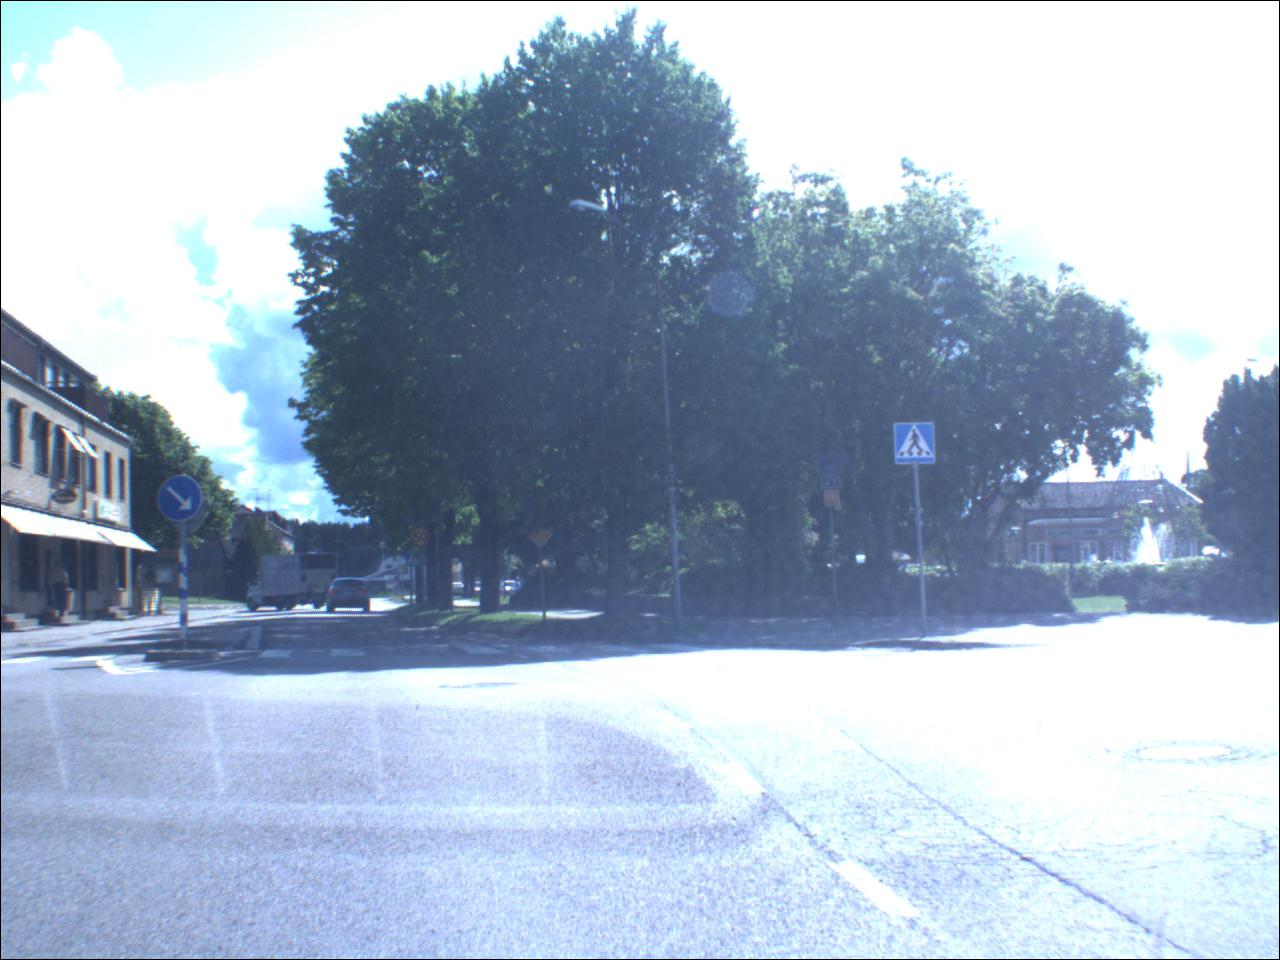50_SIGN: (412, 528, 433, 549)
PASS_RIGHT_SIDE: (160, 473, 207, 524)
PEDESTRIAN_CROSSING: (897, 424, 935, 466), (407, 551, 424, 568)
PRIORITY_ROAD: (529, 524, 556, 551)
